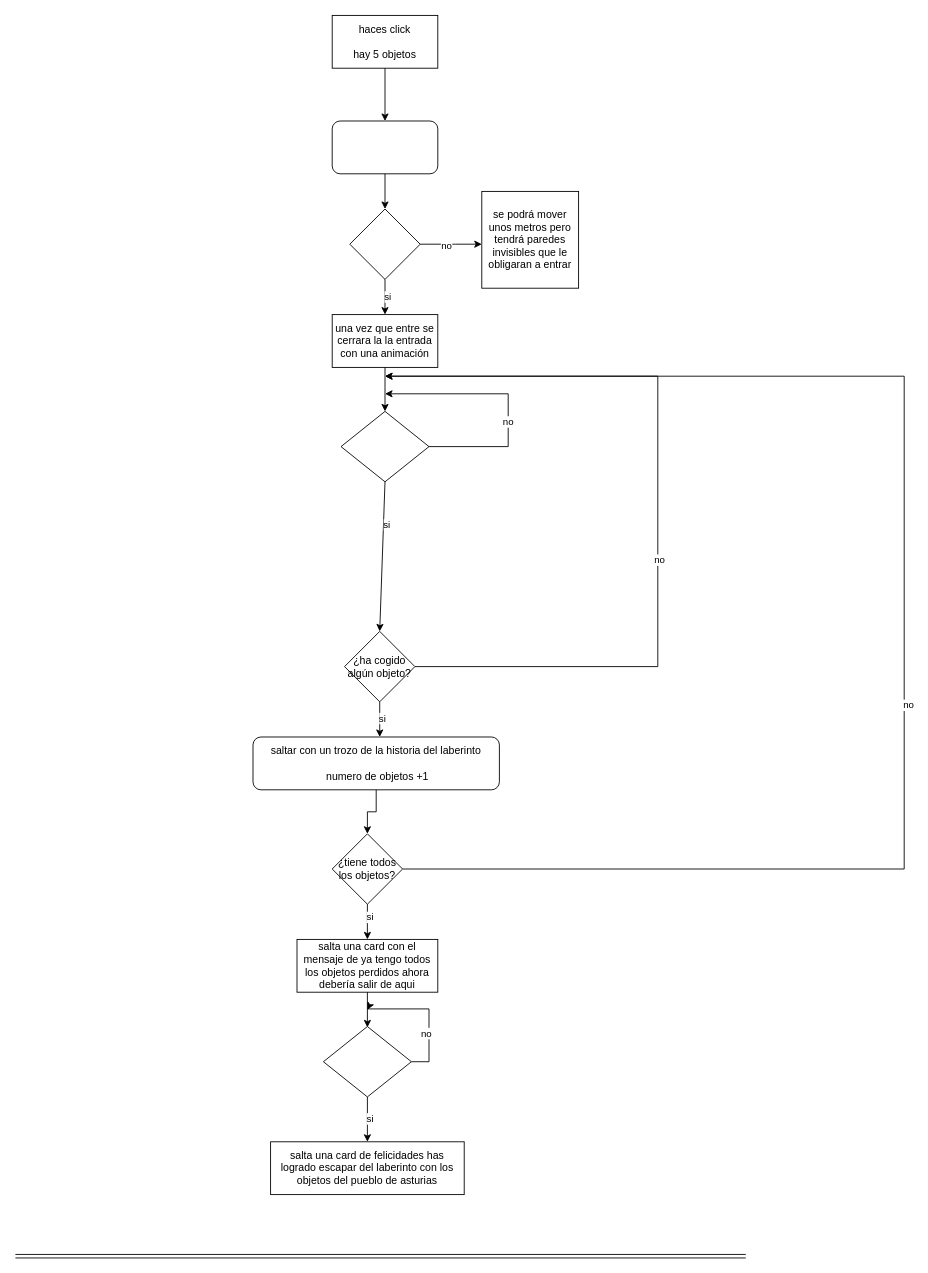
This 928x1273 diagram has some shape labels left out. The shapes that lost their labels are listed below. From the top down, each one's centre as x and y in pixels, then its label:
[384,147]: spawneas en la entrada del laberinto
[384,243]: ¿entra al laberinto?
[384,446]: ¿avanza en el laberinto?
[367,1061]: ¿ha salido del laberinto?
